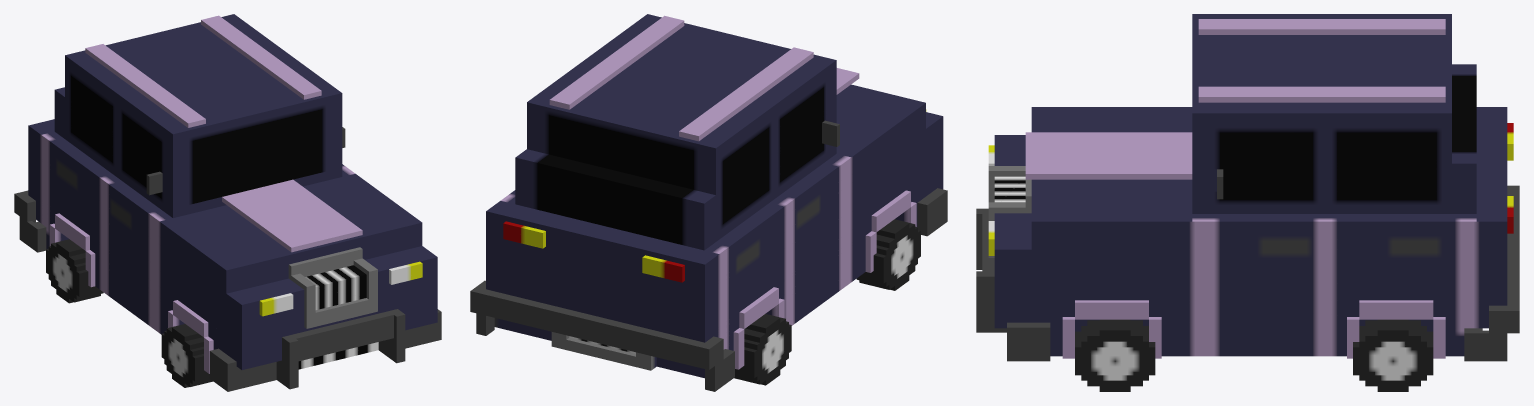
File: car_detail_3.fbx
3 views of the same model, side by side, from view 1: azimuth 30°, elevation 25°; view 2: azimuth 150°, elevation 25°; view 3: azimuth 270°, elevation 25° (orthographic). The views are drawn at different scales.
Parts seen in each view (by area): view 1: body, back_left_wheel, back_right_wheel; view 2: body, back_right_wheel, back_left_wheel; view 3: body, front_left_wheel, front_right_wheel.
Part boxes in pixels (bbox=[...]): body: bbox=[14, 14, 441, 391]; back_left_wheel: bbox=[46, 239, 103, 303]; back_right_wheel: bbox=[161, 324, 212, 387]; body: bbox=[470, 14, 947, 391]; back_right_wheel: bbox=[856, 219, 920, 290]; back_left_wheel: bbox=[734, 314, 791, 385]; body: bbox=[976, 14, 1519, 361]; front_left_wheel: bbox=[1353, 319, 1433, 391]; front_right_wheel: bbox=[1075, 319, 1155, 391].
Bounding box in the file's own units: 50 × 48 × 88.
Materials: 1 (1 with a texture image).
